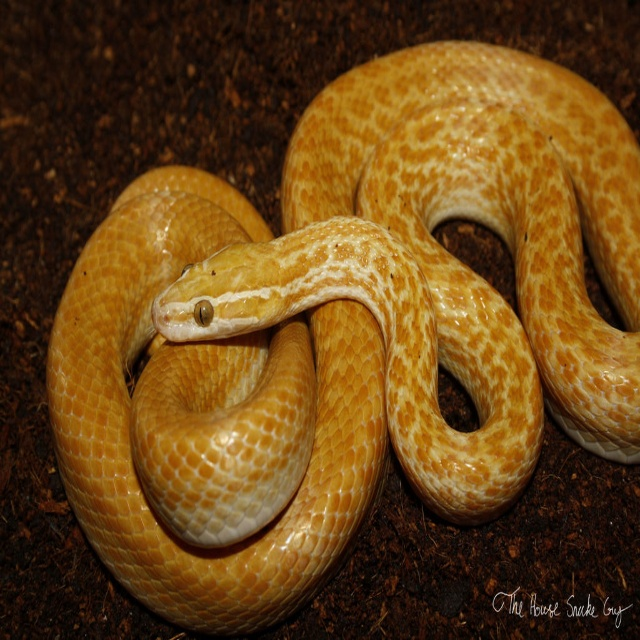Snake: (44, 36, 640, 636)
